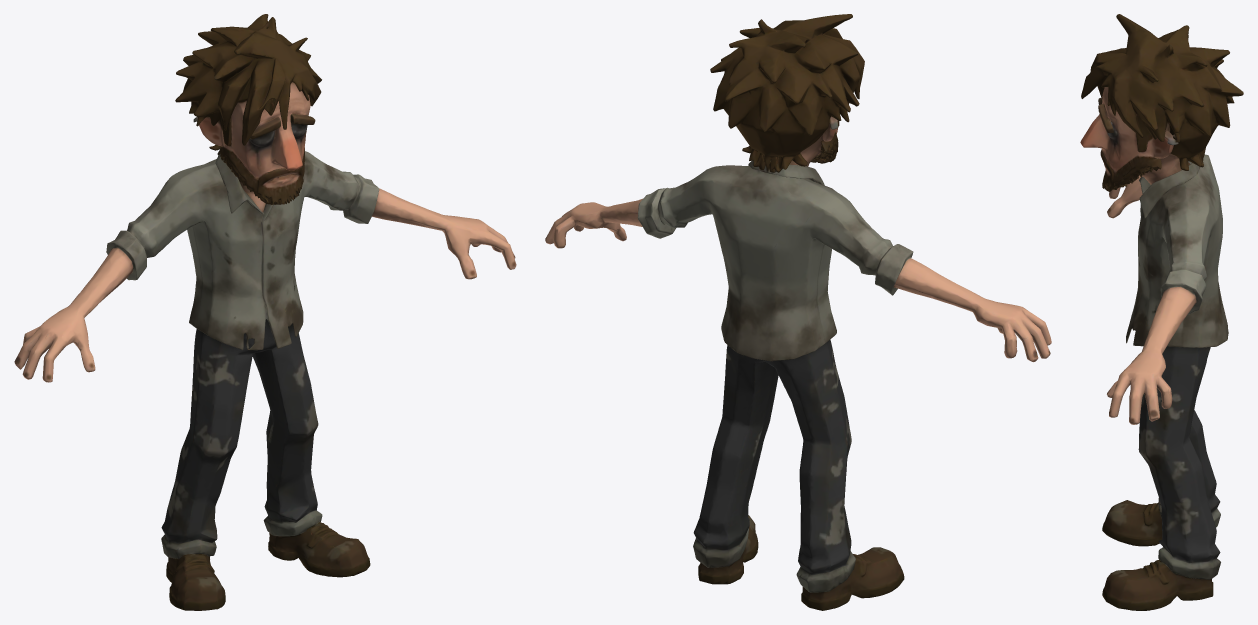
Rendered from fa29ee73-7307-4b5c-aeaf-bdb417ef17f1.glb.
3 renders of one model, left to right at view 1: azimuth 30°, elevation 25°; view 2: azimuth 150°, elevation 25°; view 3: azimuth 270°, elevation 25°, orthographic. The views are drawn at different scales.
Parts seen in each view (by area): view 1: world; view 2: world; view 3: world.
Part boxes in pixels (x1,y1,x2,y2): world: (14,14,516,610); world: (545,14,1051,610); world: (1080,14,1243,610).
Bounding box in the file's own units: 0.9334 × 1 × 0.2776.
Materials: 1 (1 with a texture image).
